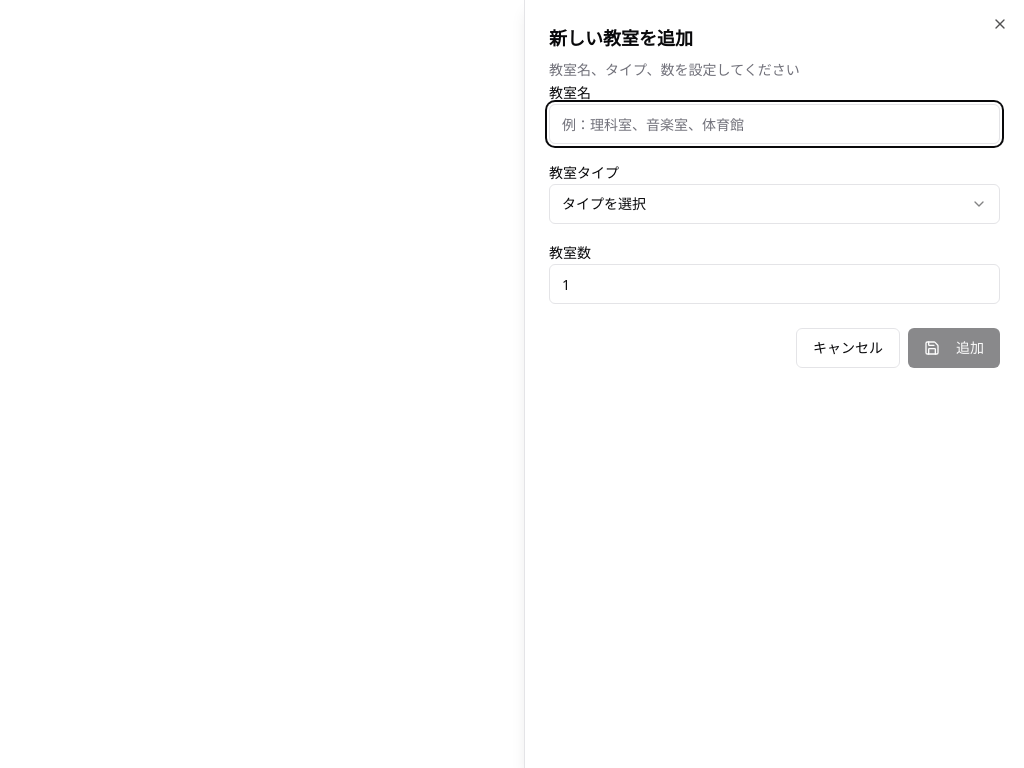
Scenario: ClassroomEditDialog › 教室タイプの選択肢が正しく表示される
Click the dropdown.
click(604, 204)  # box [549,184,1000,224]
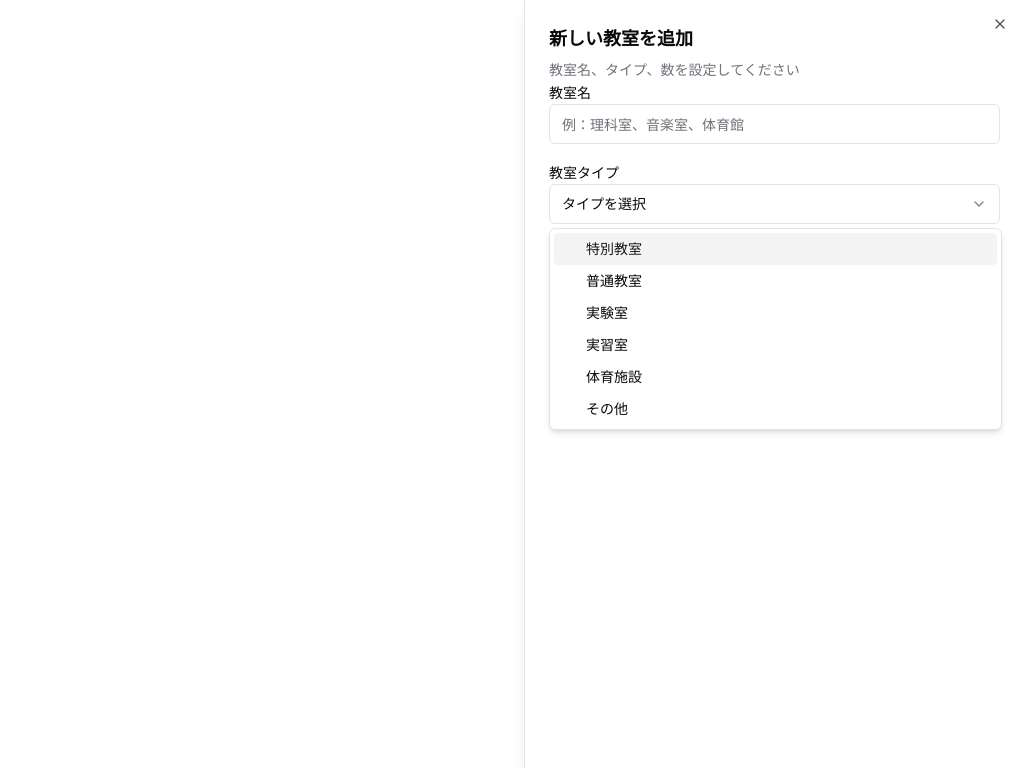
Result: the option "特別教室" is shown at [554,233,997,265]
Result: the option "普通教室" is shown at [586,271,642,290]
Result: the option "実験室" is shown at [586,303,628,322]
